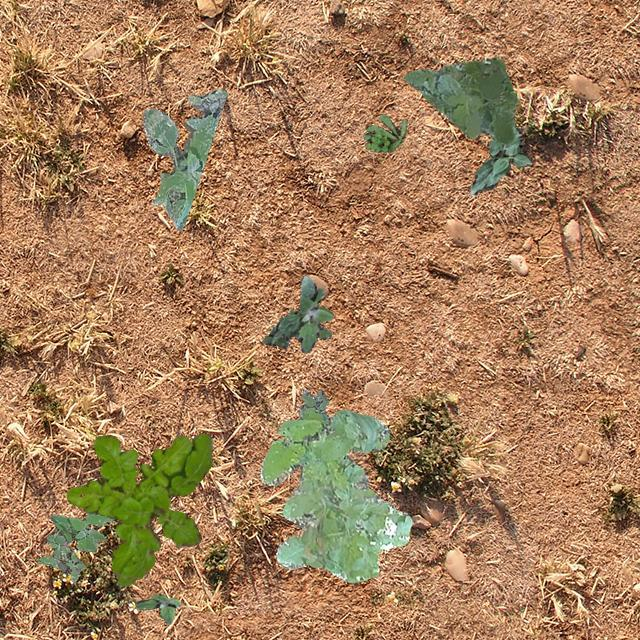crop: (468, 122, 530, 194)
weed: (259, 408, 412, 582), (66, 432, 212, 586), (142, 89, 226, 230), (403, 56, 518, 144), (260, 274, 332, 352), (36, 510, 114, 580), (362, 114, 407, 150), (134, 592, 180, 622), (298, 388, 329, 424)
